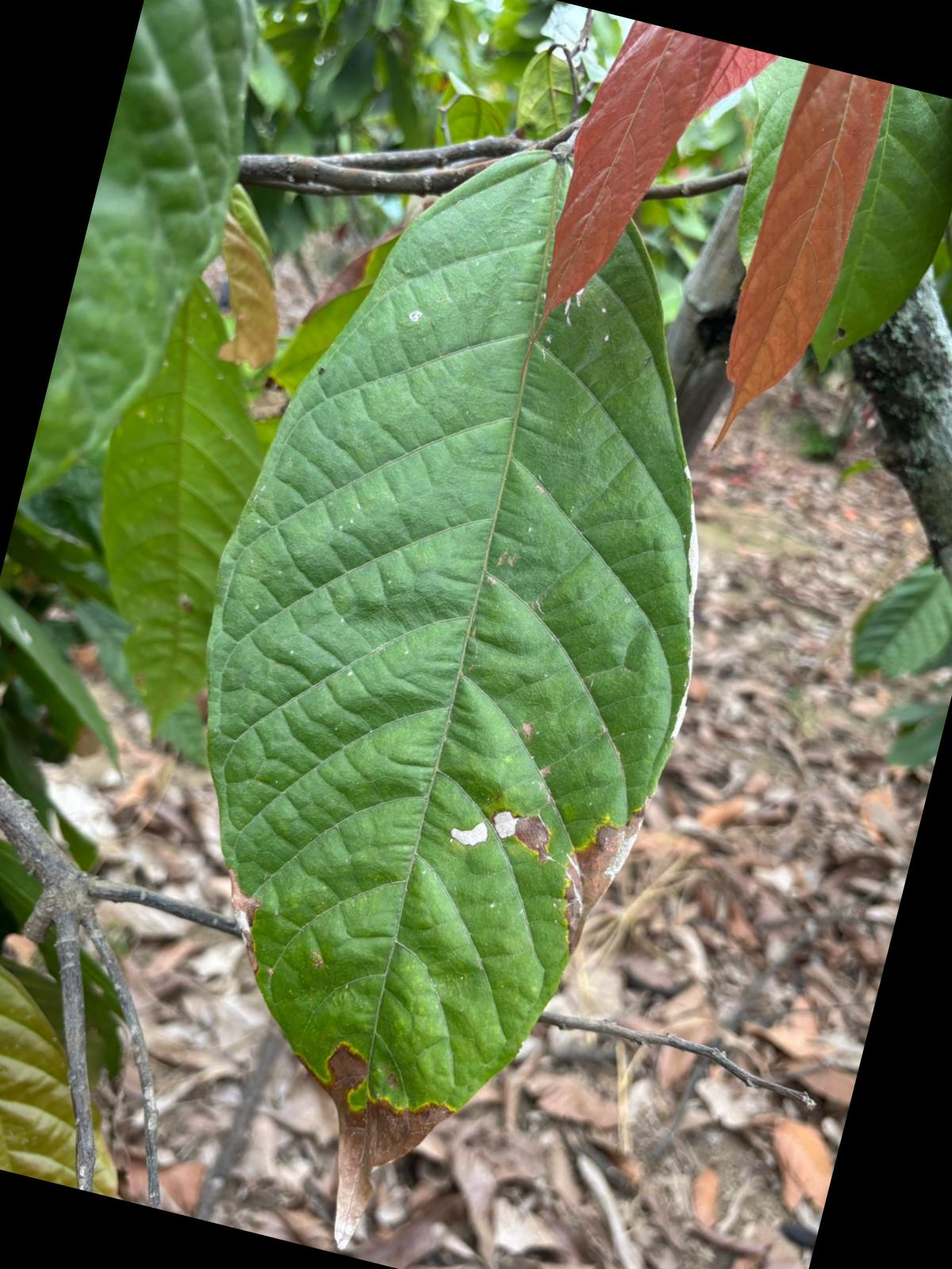Potasio: (207, 153, 696, 1212)
